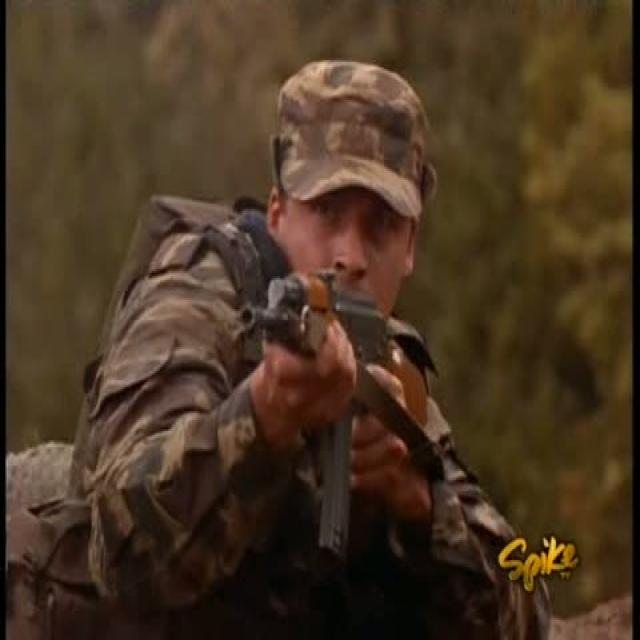rifle: (238, 267, 456, 560)
